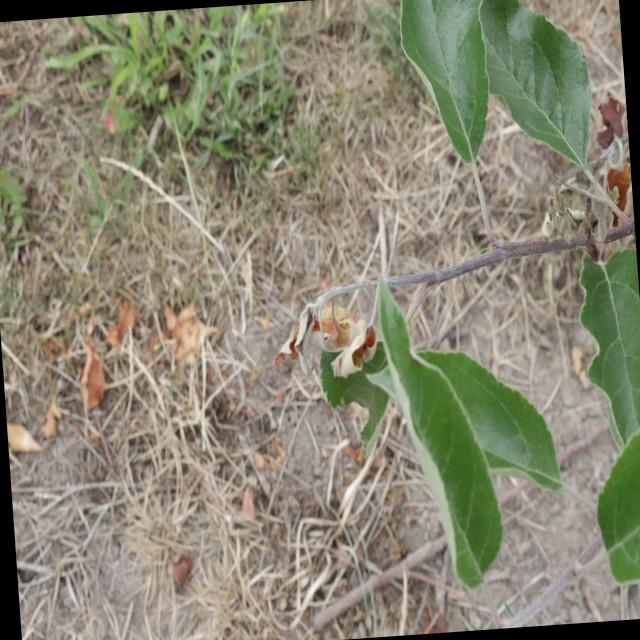-FireBlight-: (276, 284, 392, 386)
